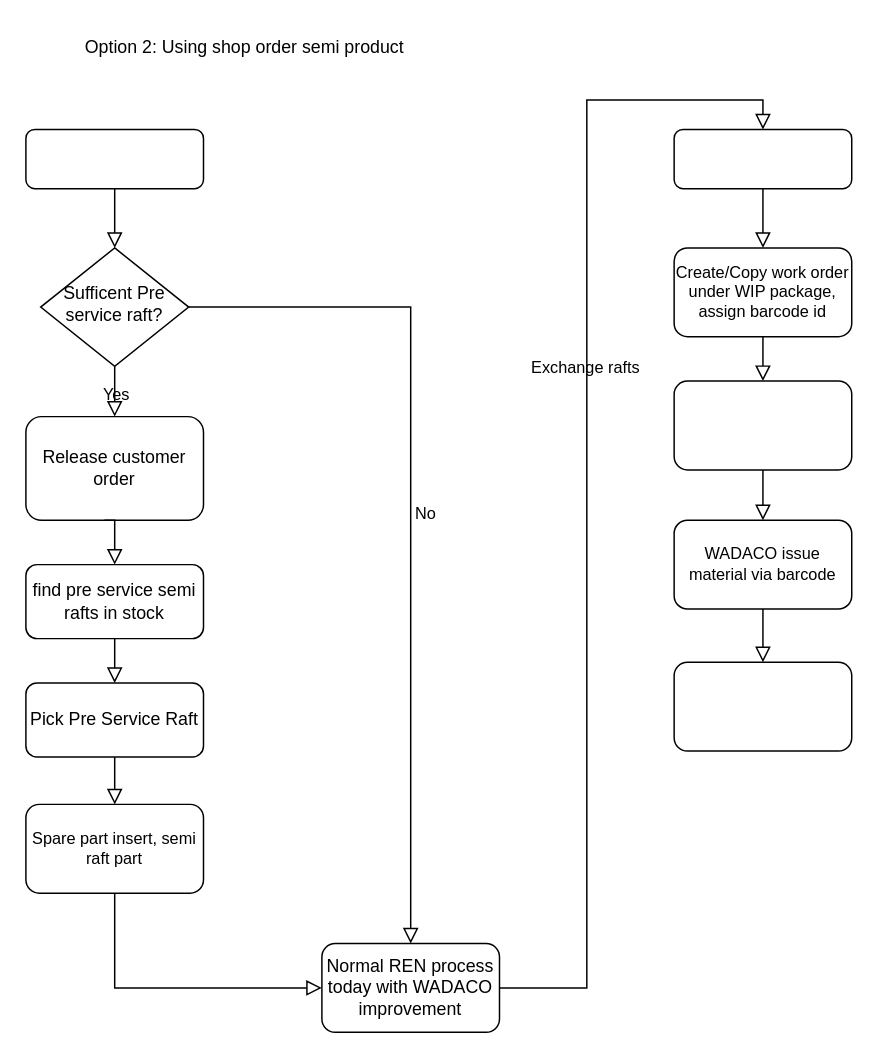
Image size: 878x1058. Some labels were removed from this diagram. The shapes that lost their labels are listed below. From the top down, each one's centre as x and y in pixels, then its label:
[114,158]: Customer demand
[762,158]: Returned Rafts
[762,425]: Spare part list ready
[762,706]: Pre service ready, keep WO open
